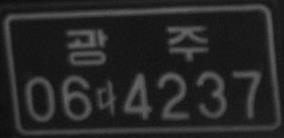0: (24, 74, 57, 124)
2: (156, 71, 192, 122)
3: (195, 68, 228, 120)
4: (121, 71, 154, 121)
6: (60, 74, 93, 122)
7: (230, 67, 264, 121)
광주_D: (65, 23, 211, 68)
다: (95, 78, 117, 117)
